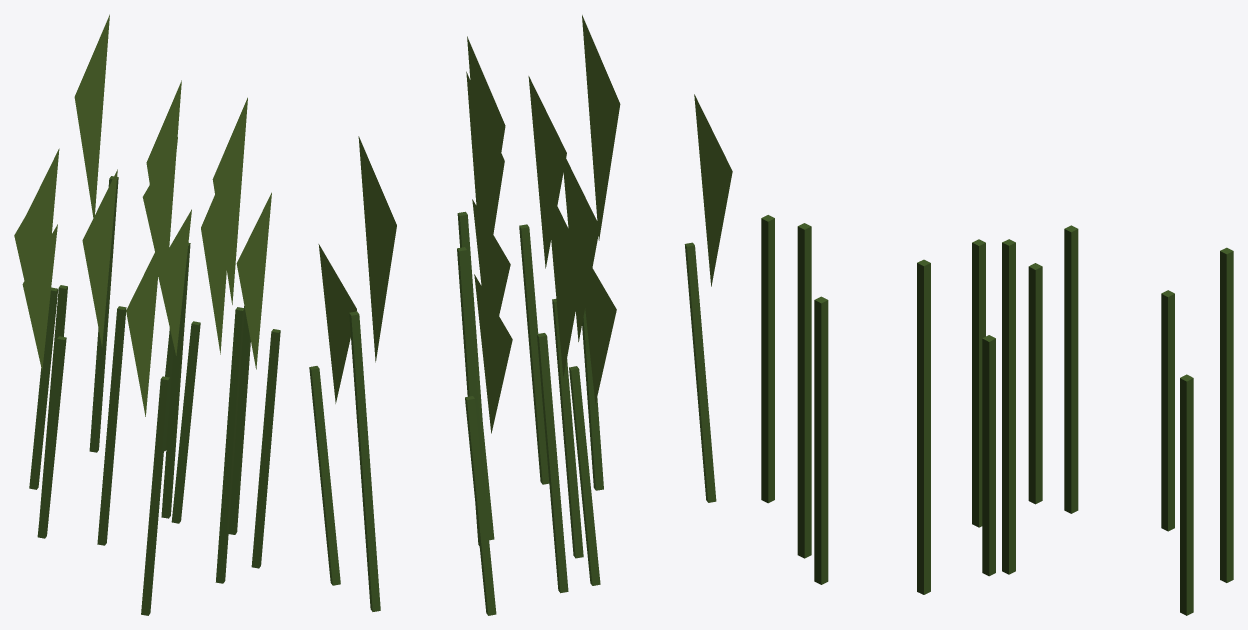
File: reeds-near.glb
The picture shows the model from 3 angles, left to right: view 1: azimuth 30°, elevation 25°; view 2: azimuth 150°, elevation 25°; view 3: azimuth 270°, elevation 25°; orthographic projection. The views are drawn at different scales.
Visible parts, largest first — view 1: reeds-near; view 2: reeds-near; view 3: reeds-near.
Part boxes in pixels (<box>): reeds-near: <box>14,14,280,615</box>; reeds-near: <box>309,15,732,615</box>; reeds-near: <box>761,215,1233,615</box>.
Bounding box in the file's own units: 1.14 × 2.1 × 1.63.
